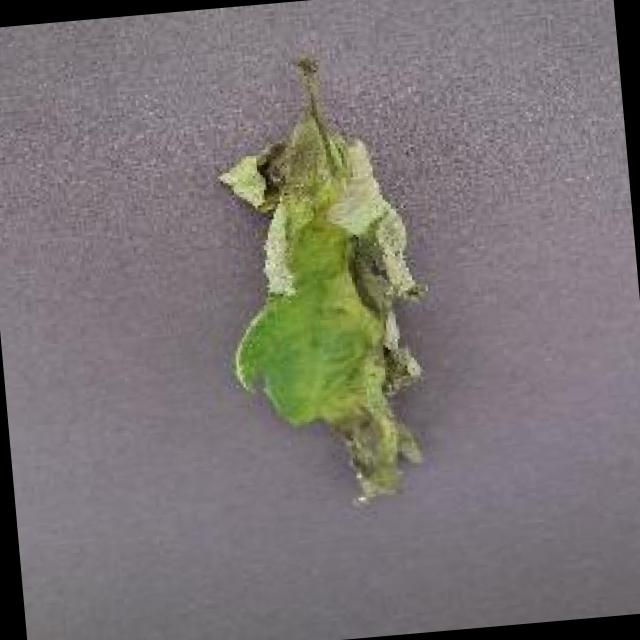Tomato_Late_Blight: (198, 38, 454, 518)
